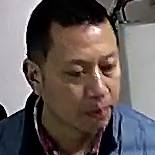qg: (24, 5, 150, 131)
